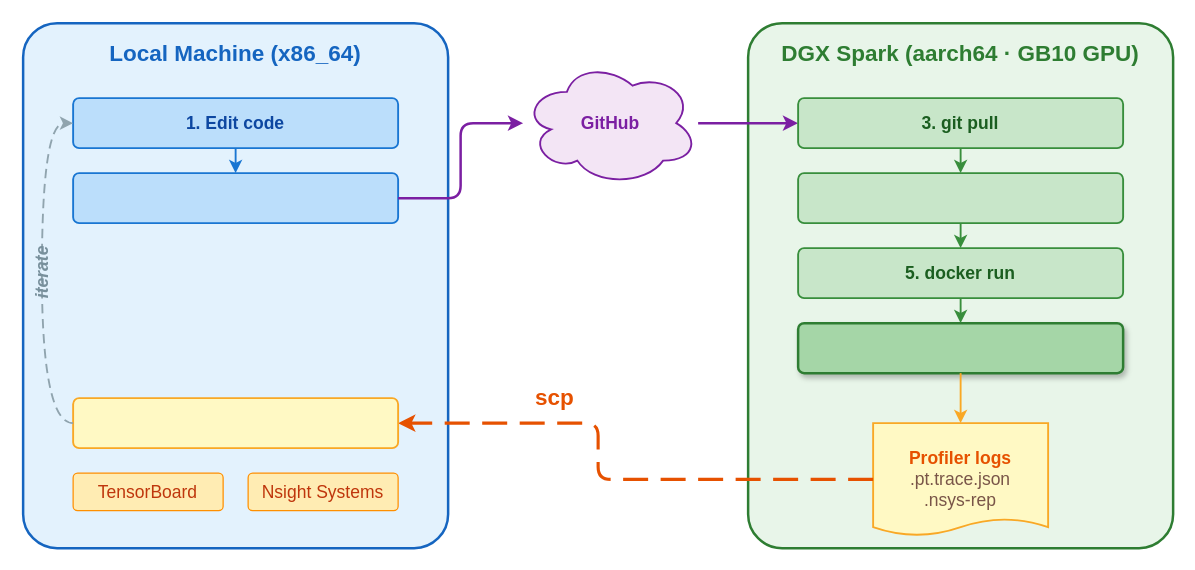
Some shapes in this 1195 by 570 pixel diagram are drawn without their labels. Here are the shapes that lost their labels. From the top down, the centre of each, then its label:
the point at 235,198: 2. git push
the point at 960,198: 4. docker build
the point at 961,349: 6. python train_lora.py
the point at 235,422: 7. Visualize results
